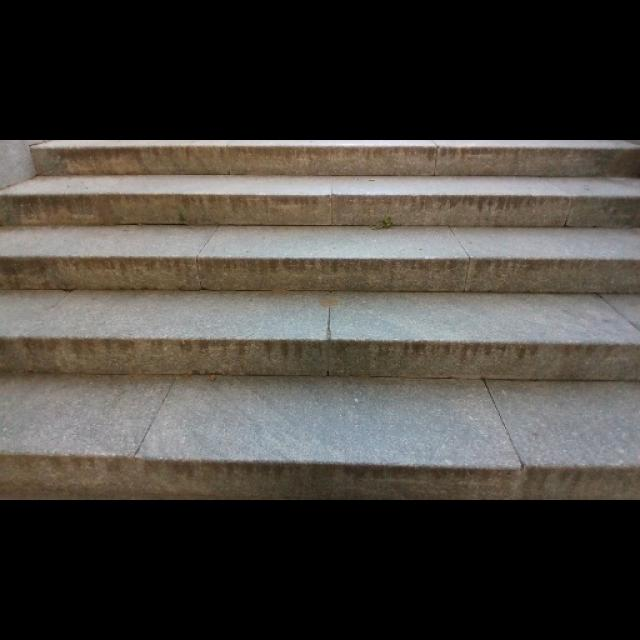Stairs: (0, 138, 639, 498)
